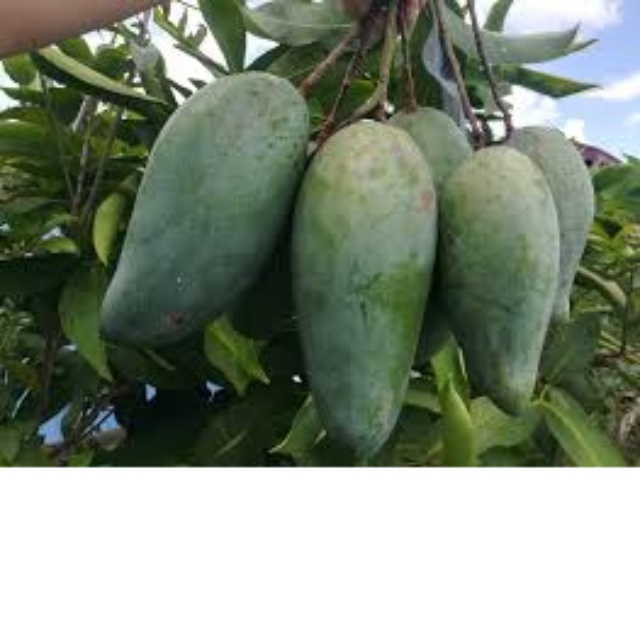thanh_long: (86, 34, 309, 366), (291, 119, 425, 456), (436, 126, 556, 425)
